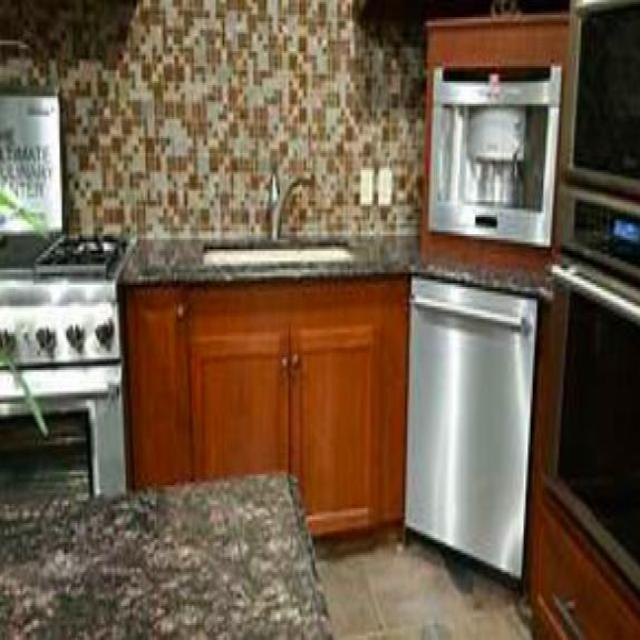dishwasher: (407, 264, 530, 593)
